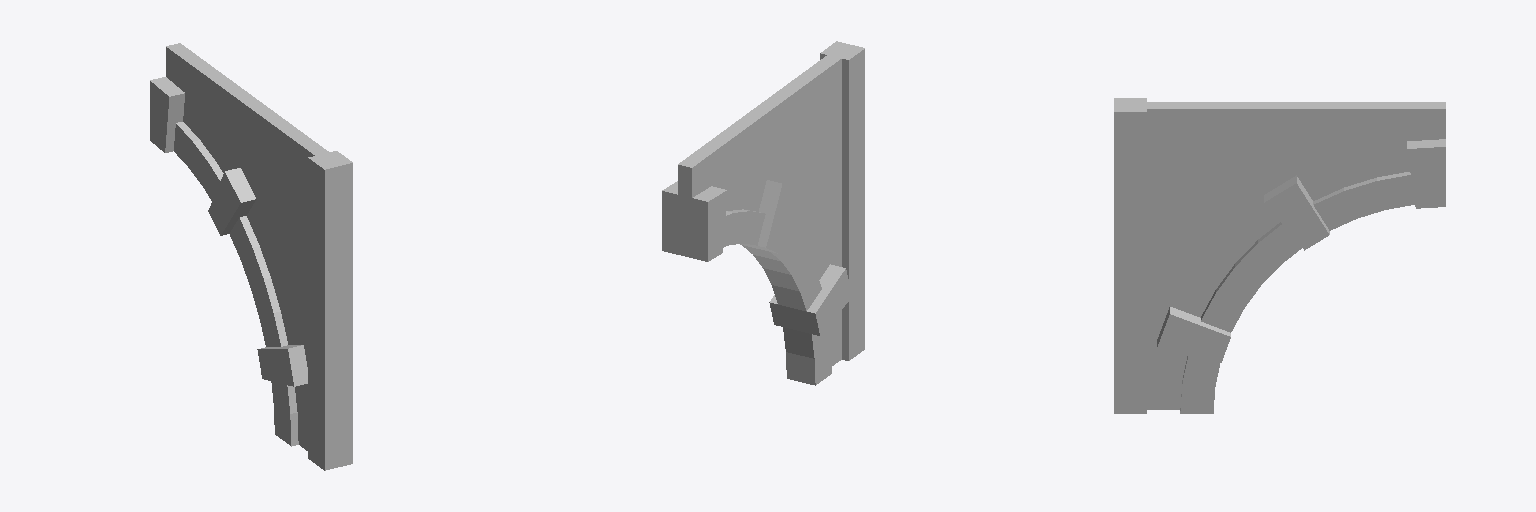
File: wall-arch-top-detail.obj
3 views of the same model, side by side, from view 1: azimuth 30°, elevation 25°; view 2: azimuth 150°, elevation 25°; view 3: azimuth 270°, elevation 25° (orthographic).
Parts seen in each view (by area): view 1: wall-arch-top-detail; view 2: wall-arch-top-detail; view 3: wall-arch-top-detail.
Boxes of the visible parts, box(x1,y1,x2,y2) form: wall-arch-top-detail: box(150, 43, 352, 470); wall-arch-top-detail: box(662, 41, 864, 385); wall-arch-top-detail: box(1114, 98, 1445, 413).
Size of the model in its own units: 0.16 by 1 by 1.